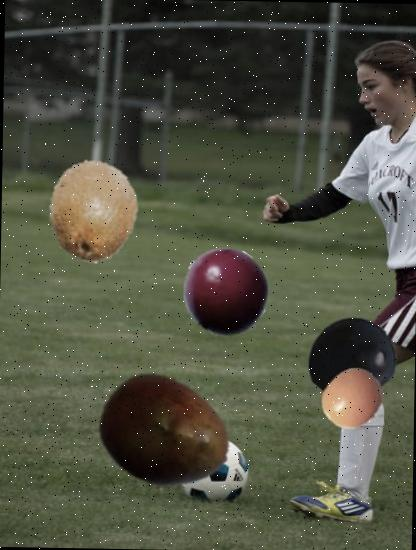Grape: (308, 316, 398, 404)
Grapefruit: (320, 366, 386, 431)
Kiwi: (40, 158, 146, 264)
Mango: (96, 364, 234, 503)
Tamarillo: (180, 246, 270, 338)
